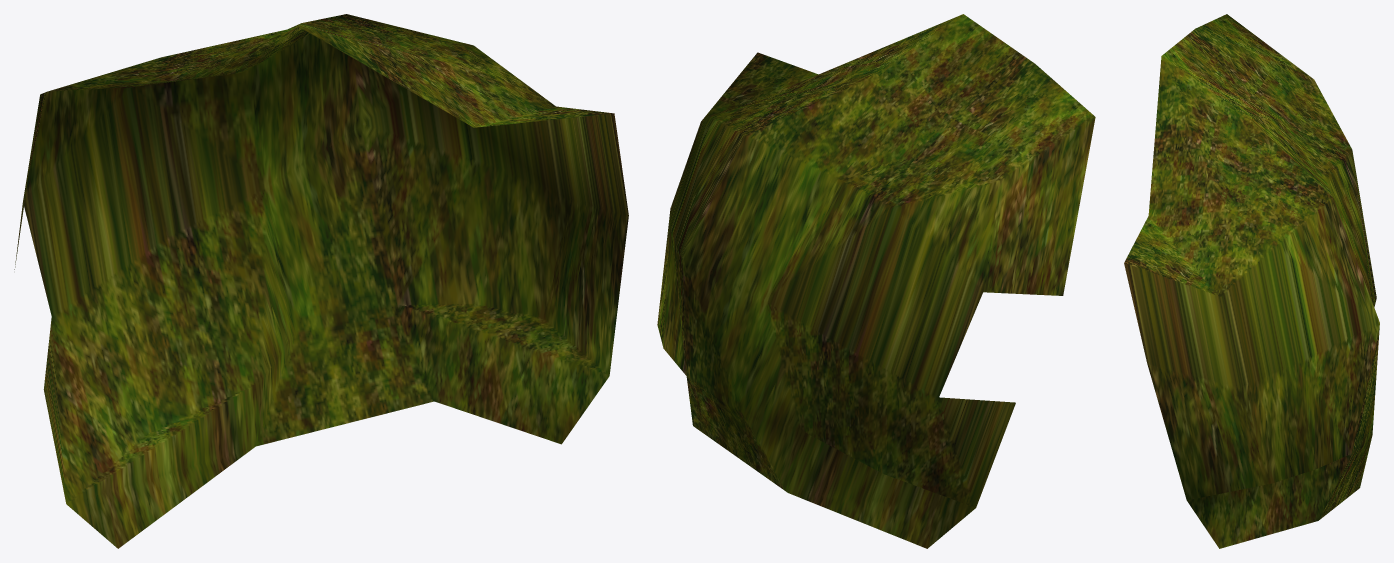
File: TROLLHOLE02_RM_PSURF96.fbx
The picture shows the model from 3 angles, left to right: view 1: azimuth 30°, elevation 25°; view 2: azimuth 150°, elevation 25°; view 3: azimuth 270°, elevation 25°; orthographic projection. The views are drawn at different scales.
Parts seen in each view (by area): view 1: TROLLHOLE02_RM_PSURF96; view 2: TROLLHOLE02_RM_PSURF96; view 3: TROLLHOLE02_RM_PSURF96.
Part boxes in pixels (x1,y1,x2,y2): TROLLHOLE02_RM_PSURF96: (14, 14, 628, 548); TROLLHOLE02_RM_PSURF96: (657, 14, 1095, 548); TROLLHOLE02_RM_PSURF96: (1124, 14, 1379, 548).
Bounding box in the file's own units: 60089 × 62365 × 33264.
1 material, 1 textured.
